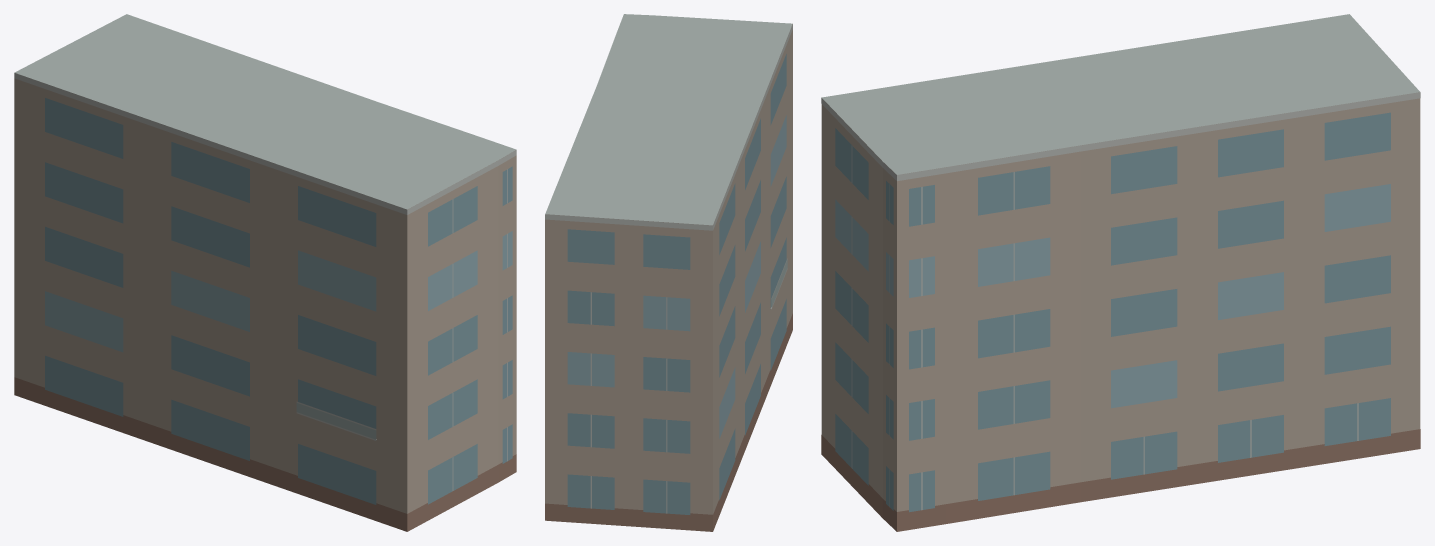
File: survey-upis-32856926.glb
3 views of the same model, side by side, from view 1: azimuth 30°, elevation 25°; view 2: azimuth 150°, elevation 25°; view 3: azimuth 270°, elevation 25° (orthographic). The views are drawn at different scales.
Parts seen in each view (by area): view 1: survey-upis-32856926.tmp; view 2: survey-upis-32856926.tmp; view 3: survey-upis-32856926.tmp.
Part boxes in pixels (x1=…): survey-upis-32856926.tmp: x1=14, y1=14, x2=516, y2=531; survey-upis-32856926.tmp: x1=545, y1=14, x2=792, y2=531; survey-upis-32856926.tmp: x1=821, y1=14, x2=1420, y2=531.
Size of the model in its own units: 13.56 by 14 by 21.31.
